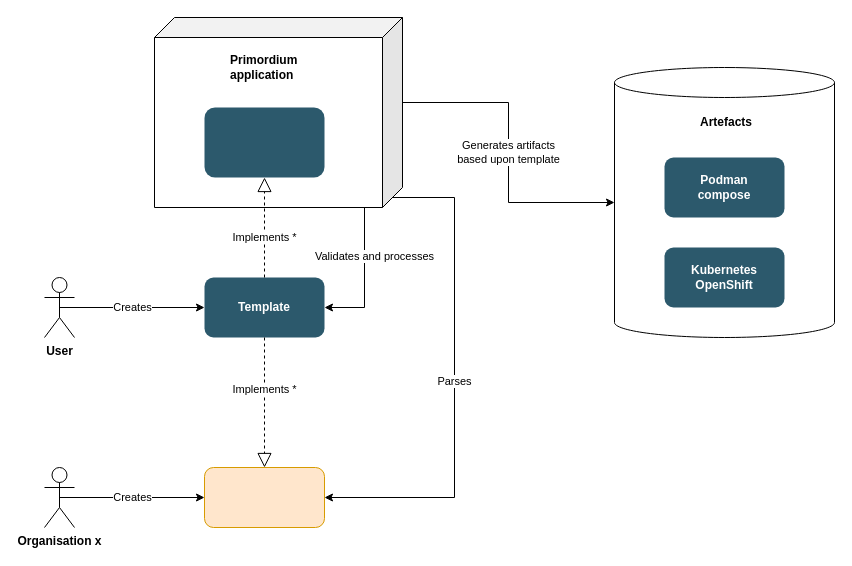
The diagram is 852 pixels wide and 566 high, and some of its shapes have lost their labels. Each missing label, with the centre of its shape:
"Default Template Definition" belongs at [264,142].
"Template Definition" belongs at [264,497].
